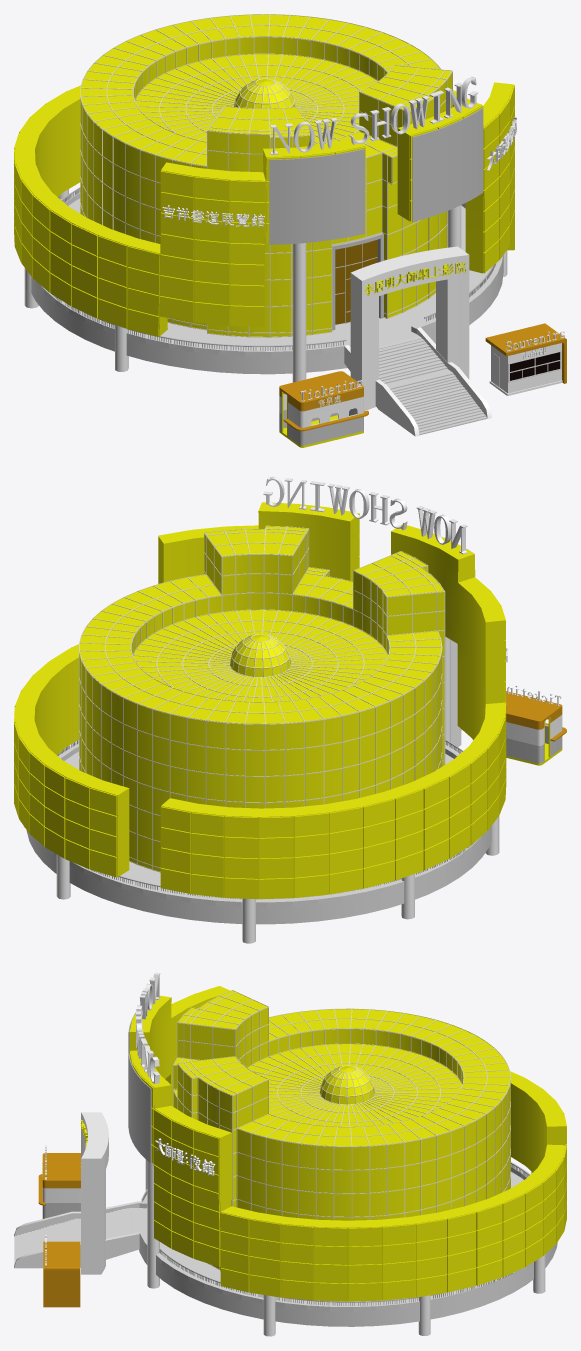
3 views of the same model, one above another, from view 1: azimuth 30°, elevation 25°; view 2: azimuth 150°, elevation 25°; view 3: azimuth 270°, elevation 25° (orthographic). The views are drawn at different scales.
Visible parts, largest first — view 1: obj_007, obj_001, Cylinder001, Cylinder003, Box002, Box003, Box004, Cylinder010, Text007, Line003, obj_011, Box006 (+11 smaller); view 2: obj_007, obj_001, Cylinder003, Cylinder001, Text007, Cylinder010, obj_006, obj_011, obj_010, Box002, Sphere001, Object (+1 smaller); view 3: obj_007, obj_001, Cylinder003, Cylinder001, Box002, Cylinder010, obj_013, Line003, Box004, obj_006, Text007, obj_011 (+4 smaller).
Part boxes in pixels (box(x1,y1,x2,y2)): obj_007: box(80, 14, 452, 336); obj_001: box(14, 82, 514, 336); Cylinder001: box(31, 189, 503, 435); Cylinder003: box(80, 14, 452, 337); Box002: box(350, 246, 469, 411); Box003: box(269, 149, 364, 244); Box004: box(412, 107, 483, 221); Cylinder010: box(24, 189, 507, 382); Text007: box(270, 76, 478, 154); Line003: box(344, 327, 491, 436); obj_011: box(279, 371, 363, 411); Box006: box(489, 343, 562, 395); obj_007: box(79, 526, 444, 871); obj_001: box(14, 502, 506, 899); Cylinder003: box(79, 525, 445, 872); Cylinder001: box(26, 741, 491, 924); Text007: box(263, 476, 467, 554); Cylinder010: box(23, 636, 499, 943); obj_006: box(230, 634, 290, 676); obj_011: box(506, 691, 562, 729); obj_010: box(506, 726, 562, 763); Box002: box(450, 640, 461, 748); Sphere001: box(230, 634, 291, 677); Object: box(506, 714, 562, 745); obj_007: box(173, 990, 510, 1269); obj_001: box(129, 986, 566, 1301); Cylinder003: box(173, 990, 510, 1269); Cylinder001: box(14, 1162, 557, 1326); Box002: box(81, 1112, 108, 1274); Cylinder010: box(145, 1159, 545, 1336); obj_013: box(43, 1241, 80, 1307); Line003: box(14, 1201, 139, 1268); Box004: box(128, 1053, 151, 1163); obj_006: box(320, 1066, 374, 1104); Text007: box(136, 972, 160, 1083); obj_011: box(42, 1153, 80, 1188).
Size of the model in its own units: 5216 by 3093 by 6583.
